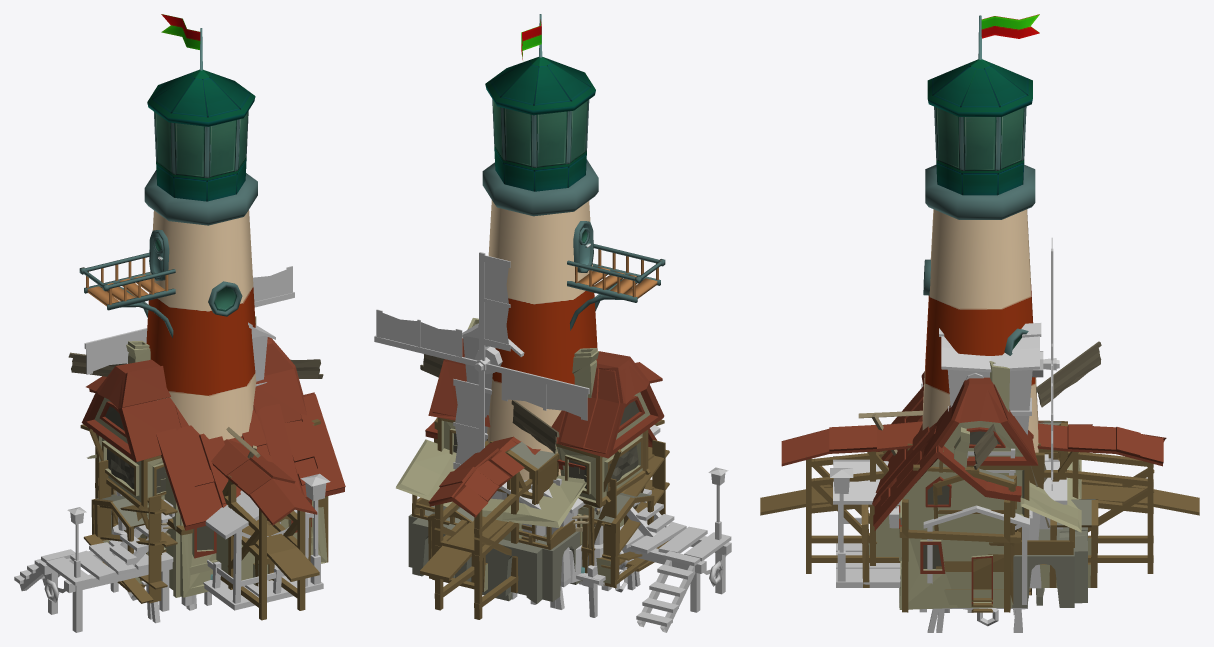
The model's file is Buildings.fbx.
3 renders of one model, left to right at view 1: azimuth 30°, elevation 25°; view 2: azimuth 150°, elevation 25°; view 3: azimuth 270°, elevation 25°, orthographic. The views are drawn at different scales.
Visible parts, largest first — view 1: lighthouse, house_m, house_l, bridge, windmill_house, pier_building_06, windmill_rotor, pier_building_05, house_construction, mill_rotor; view 2: lighthouse, house_l, house_m, windmill_rotor, bridge, windmill_house, house_construction, mill_rotor, pier_building_04, pier_building_03, platform_double_02, platform_double_01; view 3: lighthouse, house_m, bridge, house_l, house_construction, windmill_house, pier_building_06, pier_building_05, mill_rotor, pier_building_03, windmill_rotor.
Boxes of the visible parts, x1,y1,x2,y2 form: lighthouse: (79, 14, 257, 579); house_m: (83, 392, 345, 603); house_l: (81, 316, 306, 592); bridge: (80, 376, 319, 620); windmill_house: (14, 322, 275, 632); pier_building_06: (205, 482, 326, 608); windmill_rotor: (84, 266, 294, 374); pier_building_05: (203, 473, 330, 610); house_construction: (91, 494, 311, 586); mill_rotor: (68, 352, 323, 378); lighthouse: (482, 14, 665, 573); house_l: (428, 318, 664, 571); house_m: (396, 422, 669, 603); windmill_rotor: (374, 252, 589, 469); bridge: (420, 362, 664, 619); windmill_house: (462, 323, 731, 632); house_construction: (428, 417, 654, 591); mill_rotor: (420, 354, 559, 453); pier_building_04: (523, 480, 603, 587); pier_building_03: (491, 482, 582, 583); platform_double_02: (514, 565, 635, 617); platform_double_01: (512, 559, 640, 617); lighthouse: (922, 14, 1039, 481); house_m: (872, 385, 1087, 612); bridge: (760, 421, 1199, 573); house_l: (921, 361, 1038, 540); house_construction: (861, 420, 1098, 604); windmill_house: (919, 323, 1043, 612); pier_building_06: (833, 456, 1045, 604); pier_building_05: (830, 462, 1047, 587); mill_rotor: (974, 341, 1101, 527); pier_building_03: (1029, 458, 1067, 588); windmill_rotor: (1043, 237, 1059, 490).
Size of the model in its own units: 928 by 1709 by 1162.
